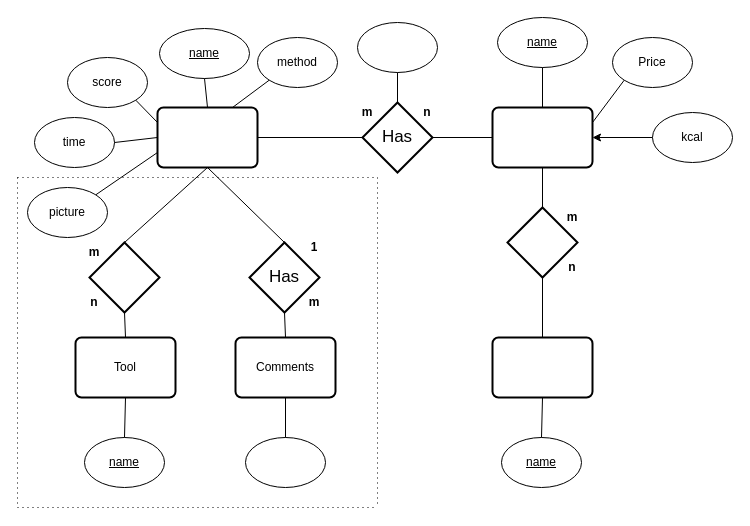
Some shapes in this 750 by 526 pixel diagram are drawn without their labels. The shapes that lost their labels are listed below. From the top down, each one's box as (x1, y1, x2, y2) in pixels, then its label:
(356, 22, 438, 72): amount
(156, 106, 258, 168): Recipie
(491, 106, 593, 168): Ingredient
(506, 206, 578, 278): contains
(88, 241, 160, 313): Needs
(491, 336, 593, 398): Allergy
(244, 436, 326, 488): comment
